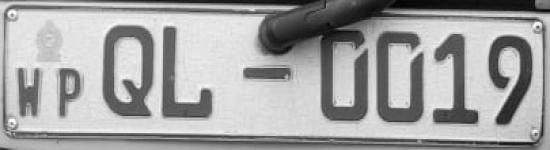-: (242, 63, 293, 88)
0: (314, 26, 374, 127), (376, 28, 432, 130)
1: (434, 29, 485, 129)
9: (485, 28, 538, 130)
L: (160, 17, 225, 123)
P: (50, 64, 89, 118)
Q: (97, 17, 156, 123)
W: (11, 62, 45, 120)
